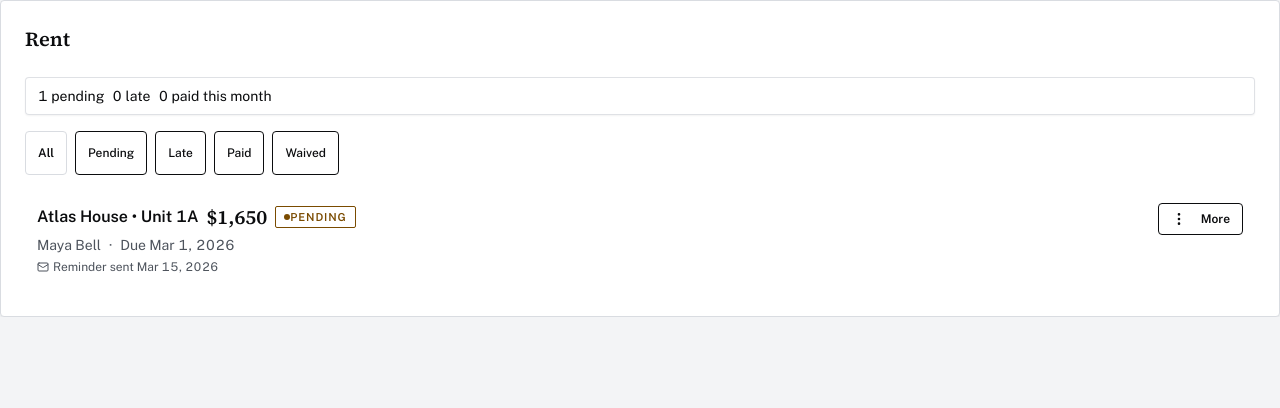
ChargesSection › shows labeled charge actions in the more menu when charge management is available
Click the button with aria-label "Open more payment actions" at (1200, 219), box [1158,203,1243,235]
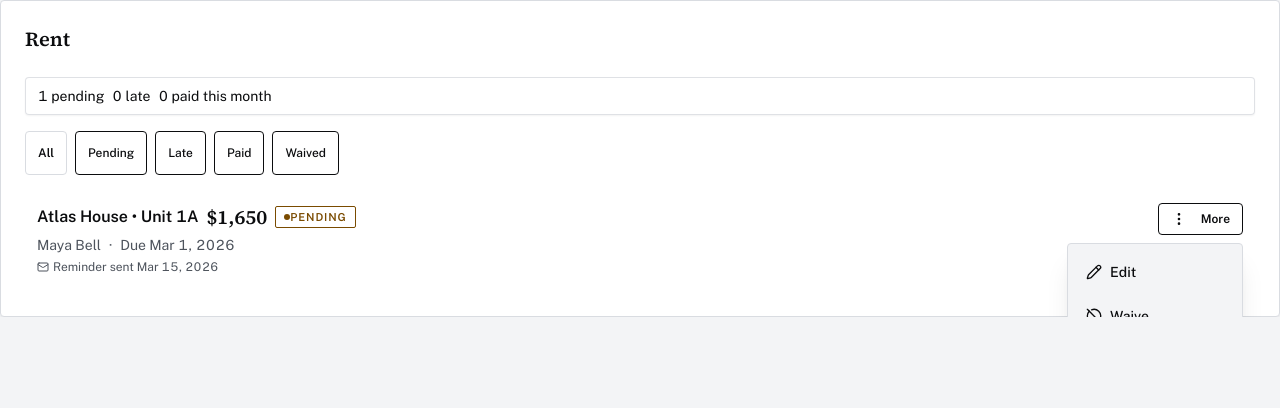
Expected: the button "Edit" is shown, [1074,250,1236,294]
Expected: the button "Waive" is shown, [1074,294,1236,338]
